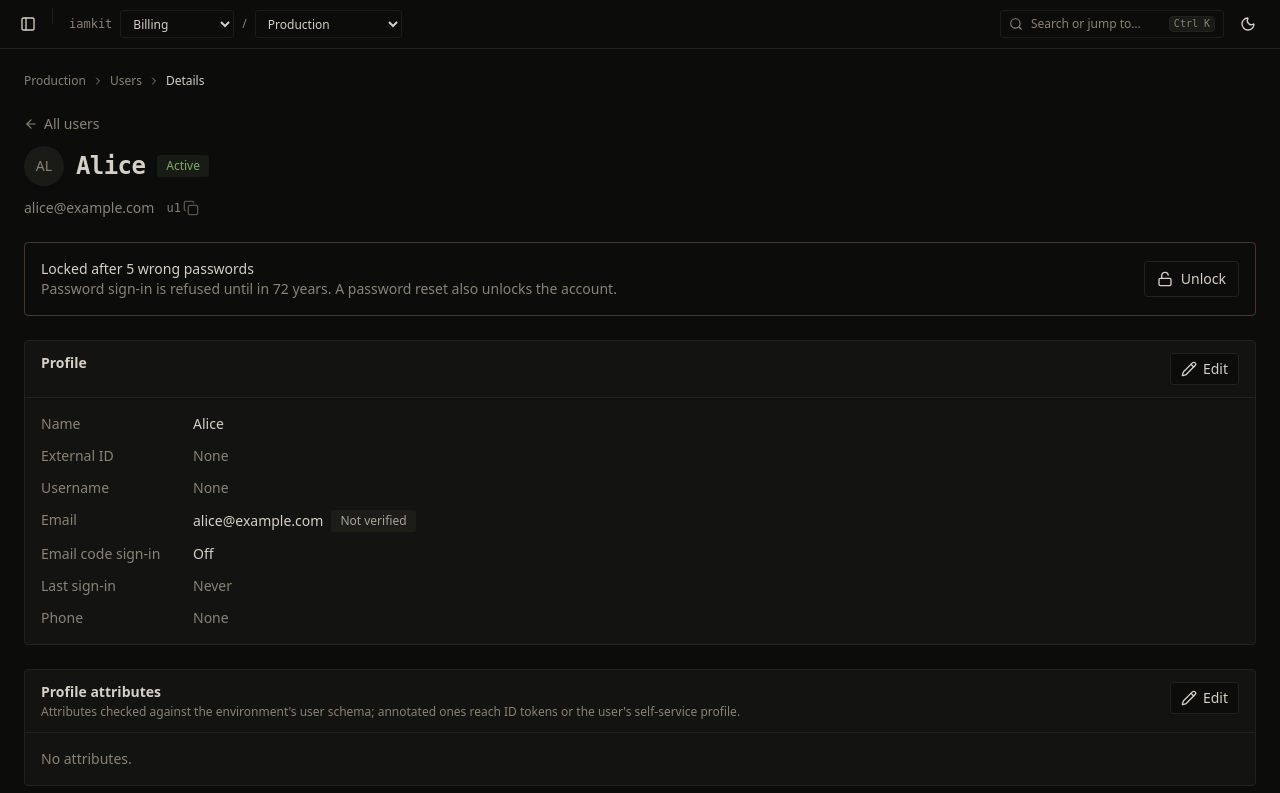
Test: unlocks a locked user
Expected: the text "Locked after 5 wrong passwords" is shown, [41, 259, 254, 278]
Click the button "Unlock" at (1191, 279), box [1144, 261, 1239, 297]
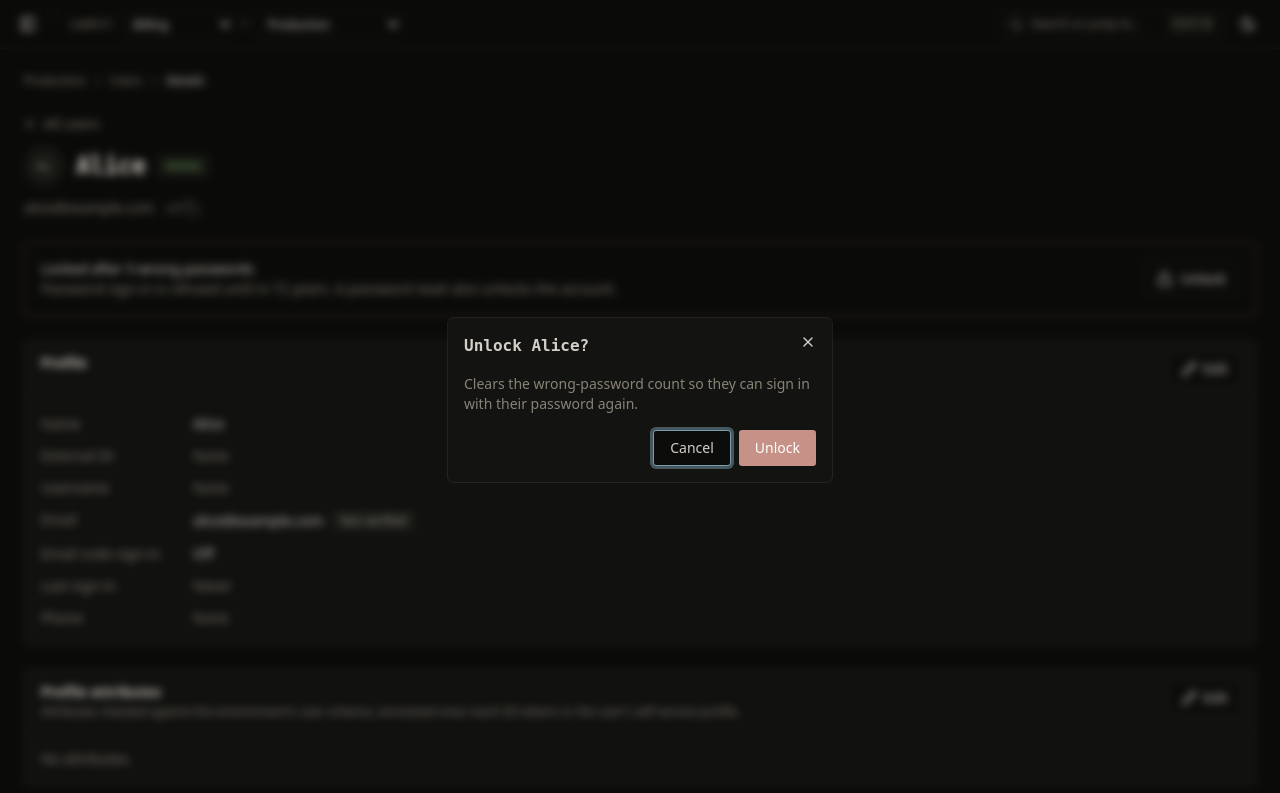
Click the button "Unlock" at (777, 448), box [739, 430, 816, 466]
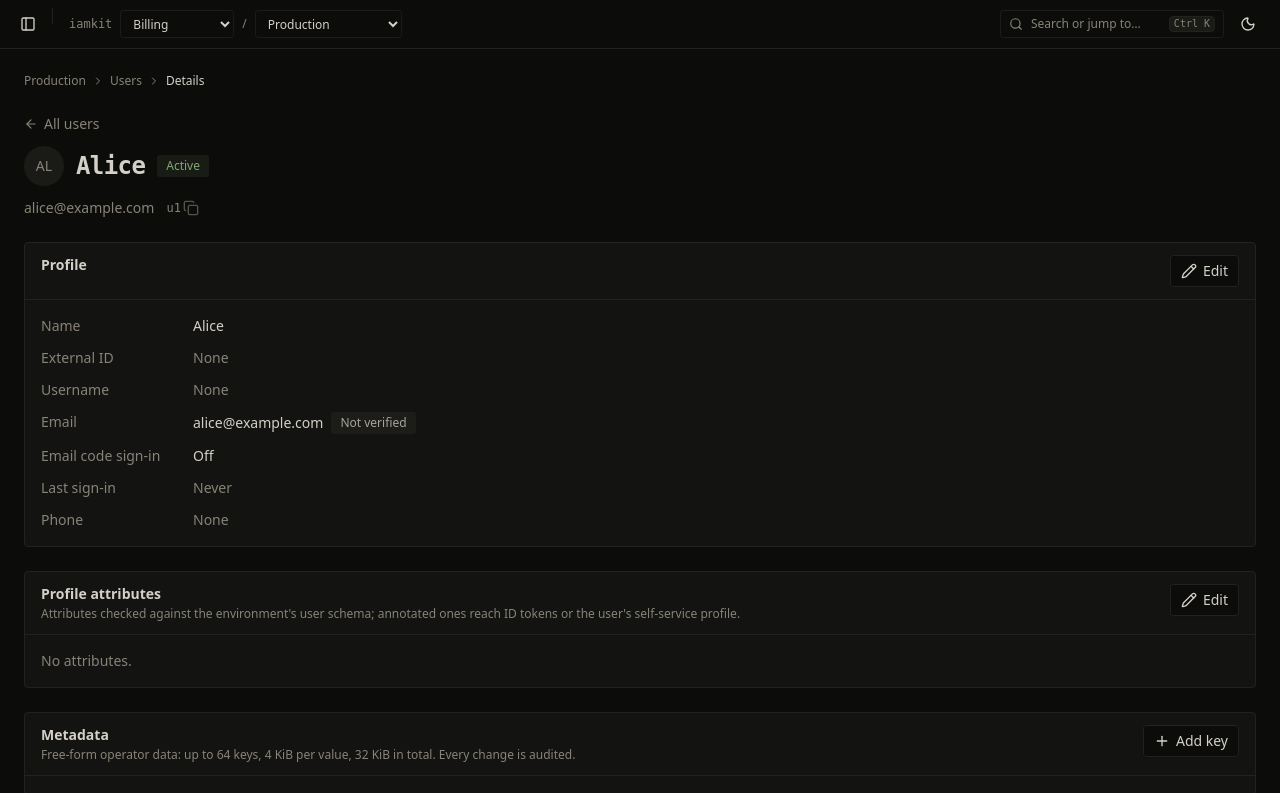
Now the text "Locked after 5 wrong passwords" is gone
